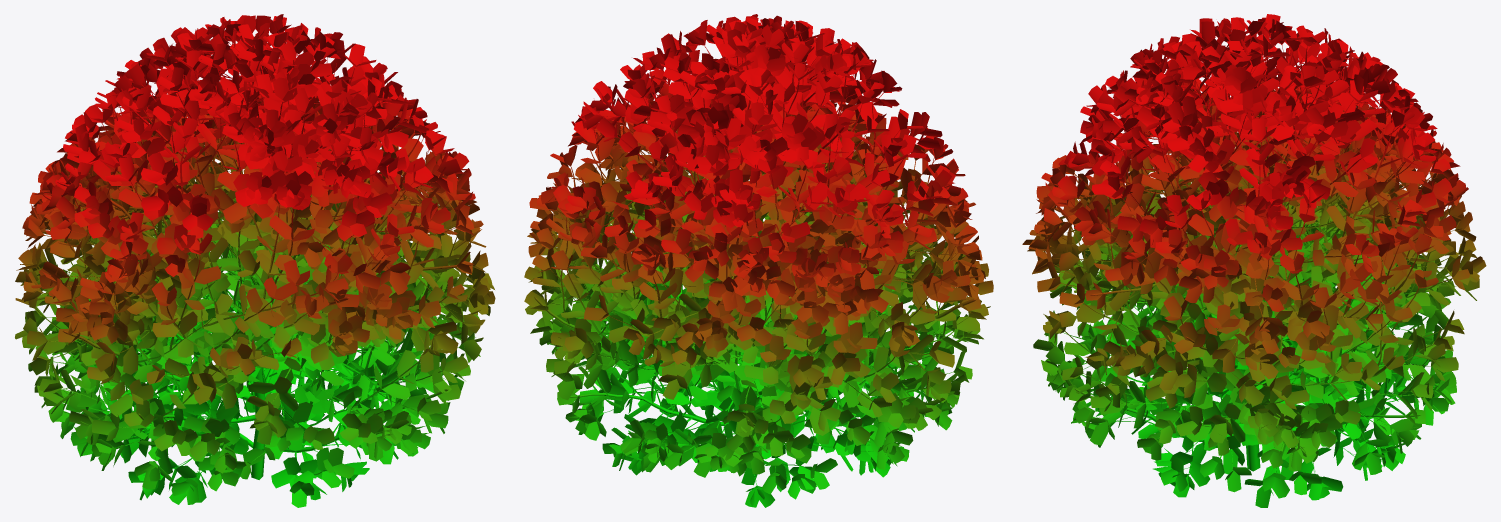
Rendered from Var8_LOD3.fbx.
3 renders of one model, left to right at view 1: azimuth 30°, elevation 25°; view 2: azimuth 150°, elevation 25°; view 3: azimuth 270°, elevation 25°, orthographic. The views are drawn at different scales.
Parts seen in each view (by area): view 1: _lp4k_Var8_LOD3; view 2: _lp4k_Var8_LOD3; view 3: _lp4k_Var8_LOD3.
Part boxes in pixels (x1,y1,x2,y2): _lp4k_Var8_LOD3: (15,14,495,507); _lp4k_Var8_LOD3: (524,14,993,507); _lp4k_Var8_LOD3: (1022,14,1486,507).
Size of the model in its own units: 48.65 by 49.33 by 47.15.
